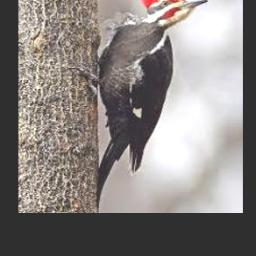Woodpecker: (68, 0, 207, 211)
